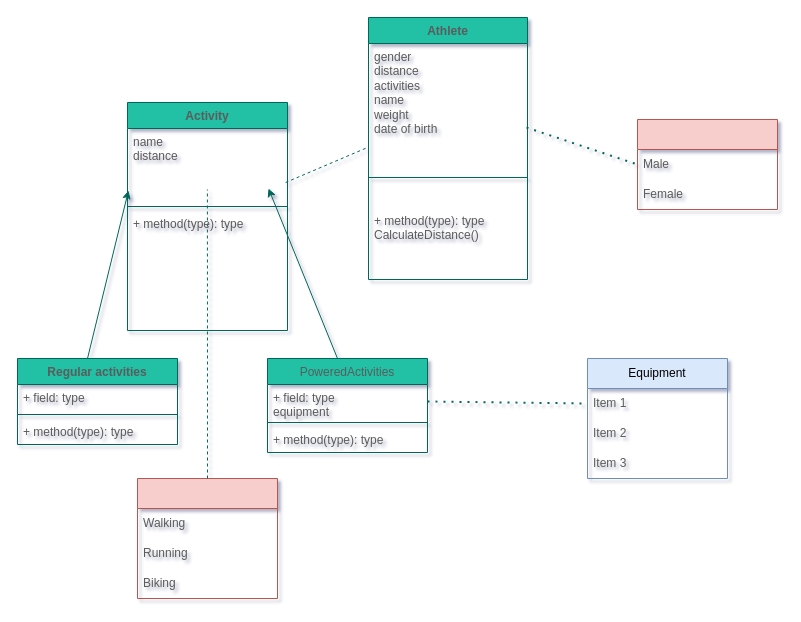
This 801x622 diagram has some shape labels left out. The shapes that lost their labels are listed below. From the top down, each one's box as (x1, y1, x2, y2) in pixels, then its label:
(636, 118, 778, 210): Gender
(136, 478, 278, 598): Modality
